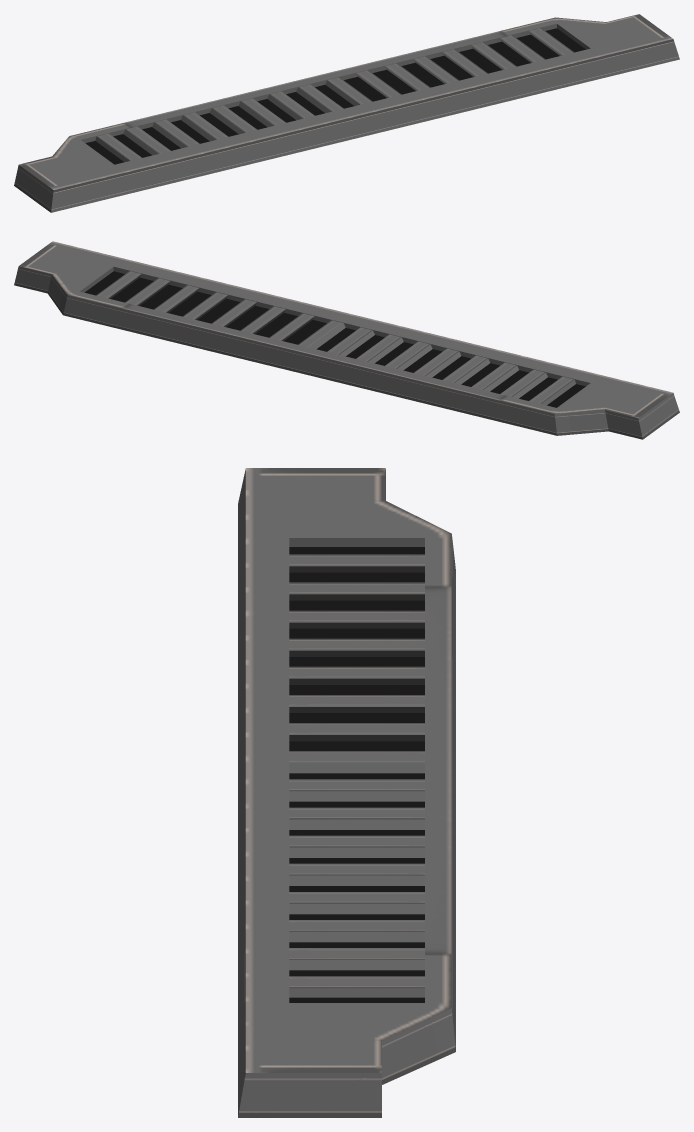
Rendered from quaternius-scifi-vent-wide.glb.
The picture shows the model from 3 angles, top to bottom: view 1: azimuth 30°, elevation 25°; view 2: azimuth 150°, elevation 25°; view 3: azimuth 270°, elevation 25°; orthographic projection. The views are drawn at different scales.
Visible parts, largest first — view 1: Prop_Vent_Wide; view 2: Prop_Vent_Wide; view 3: Prop_Vent_Wide.
Part boxes in pixels (x1,y1,x2,y2): Prop_Vent_Wide: (14, 14, 679, 212); Prop_Vent_Wide: (14, 241, 679, 439); Prop_Vent_Wide: (238, 468, 455, 1117).
Size of the model in its own units: 1.94 by 0.0595 by 0.291.
3 materials, 2 textured.
